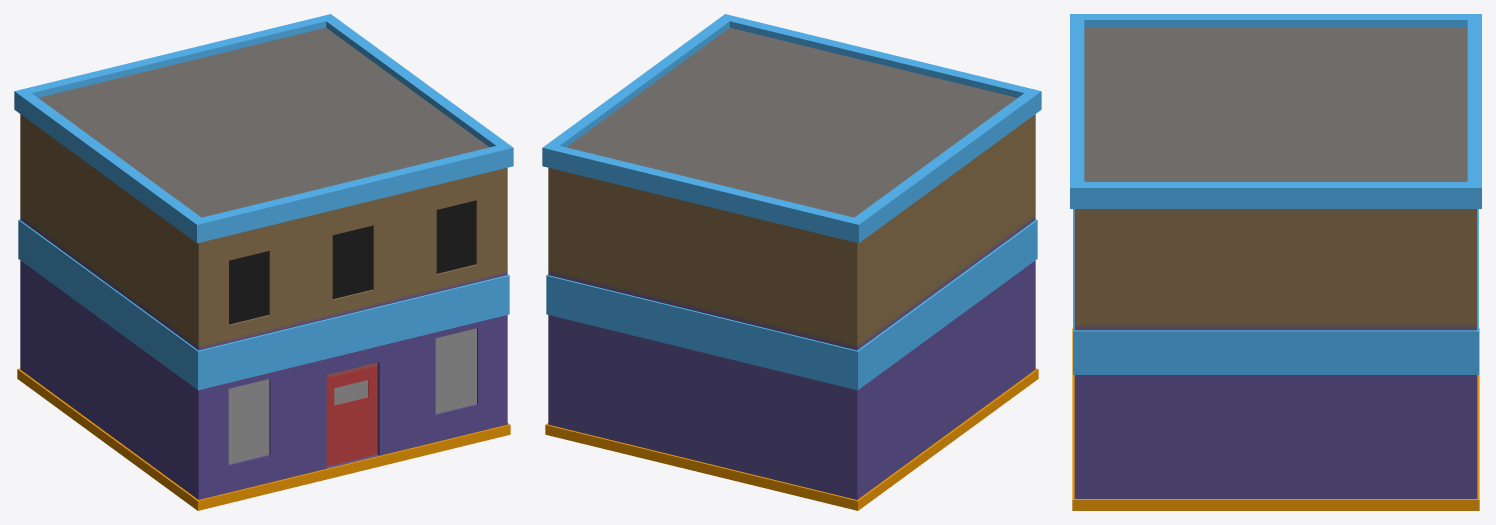
The model's file is Police_final.fbx.
3 renders of one model, left to right at view 1: azimuth 30°, elevation 25°; view 2: azimuth 150°, elevation 25°; view 3: azimuth 270°, elevation 25°, orthographic. The views are drawn at different scales.
Visible parts, largest first — view 1: Police; view 2: Police; view 3: Police.
Boxes of the visible parts, x1,y1,x2,y2 form: Police: (14, 14, 513, 510); Police: (542, 14, 1041, 510); Police: (1070, 14, 1481, 510).
Bounding box in the file's own units: 1404 × 1218 × 1404.
